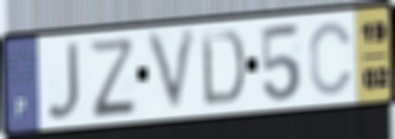5: (258, 20, 304, 105)
C: (307, 18, 356, 99)
D: (198, 27, 247, 109)
J: (44, 38, 82, 123)
V: (143, 25, 201, 119)
Z: (86, 35, 140, 121)
